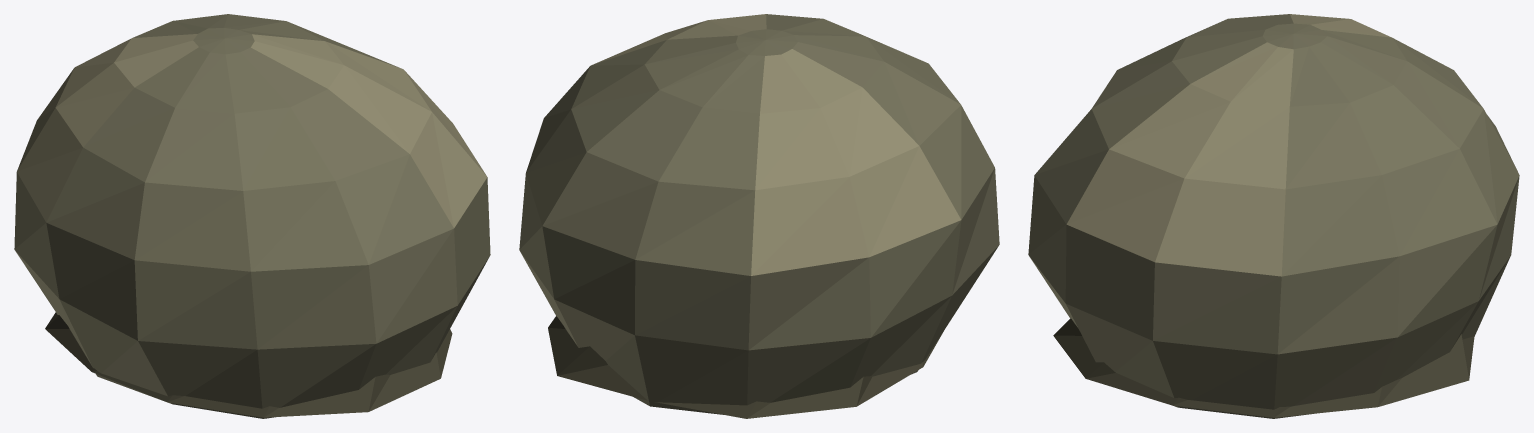
The model's file is cocoon_locust_2.obj.
The picture shows the model from 3 angles, left to right: view 1: azimuth 30°, elevation 25°; view 2: azimuth 150°, elevation 25°; view 3: azimuth 270°, elevation 25°; orthographic projection. The views are drawn at different scales.
Visible parts, largest first — view 1: cocoon_locust_2; view 2: cocoon_locust_2; view 3: cocoon_locust_2.
Boxes of the visible parts, <box> form: cocoon_locust_2: <box>14,14,490,418</box>; cocoon_locust_2: <box>519,14,999,418</box>; cocoon_locust_2: <box>1028,14,1519,418</box>.
Size of the model in its own units: 0.7002 by 0.488 by 0.7325.
